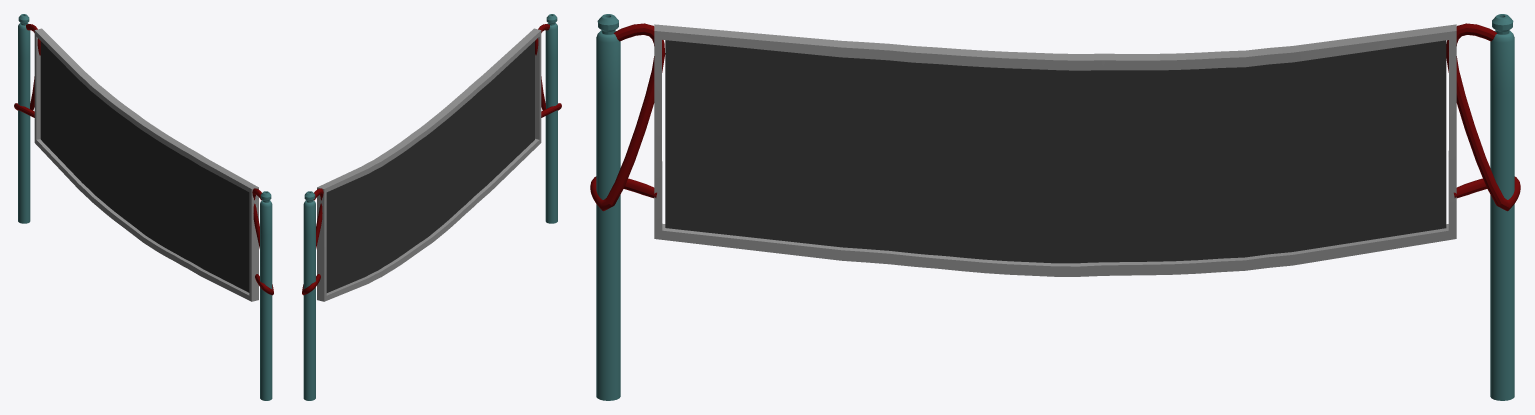
The model's file is Net_03.FBX.
3 views of the same model, side by side, from view 1: azimuth 30°, elevation 25°; view 2: azimuth 150°, elevation 25°; view 3: azimuth 270°, elevation 25° (orthographic). The views are drawn at different scales.
Parts seen in each view (by area): view 1: Box002; view 2: Box002; view 3: Box002.
Boxes of the visible parts, x1,y1,x2,y2 form: Box002: (14, 14, 273, 400); Box002: (302, 14, 561, 400); Box002: (590, 14, 1520, 400).
Size of the model in its own units: 6.32 by 85.82 by 191.
